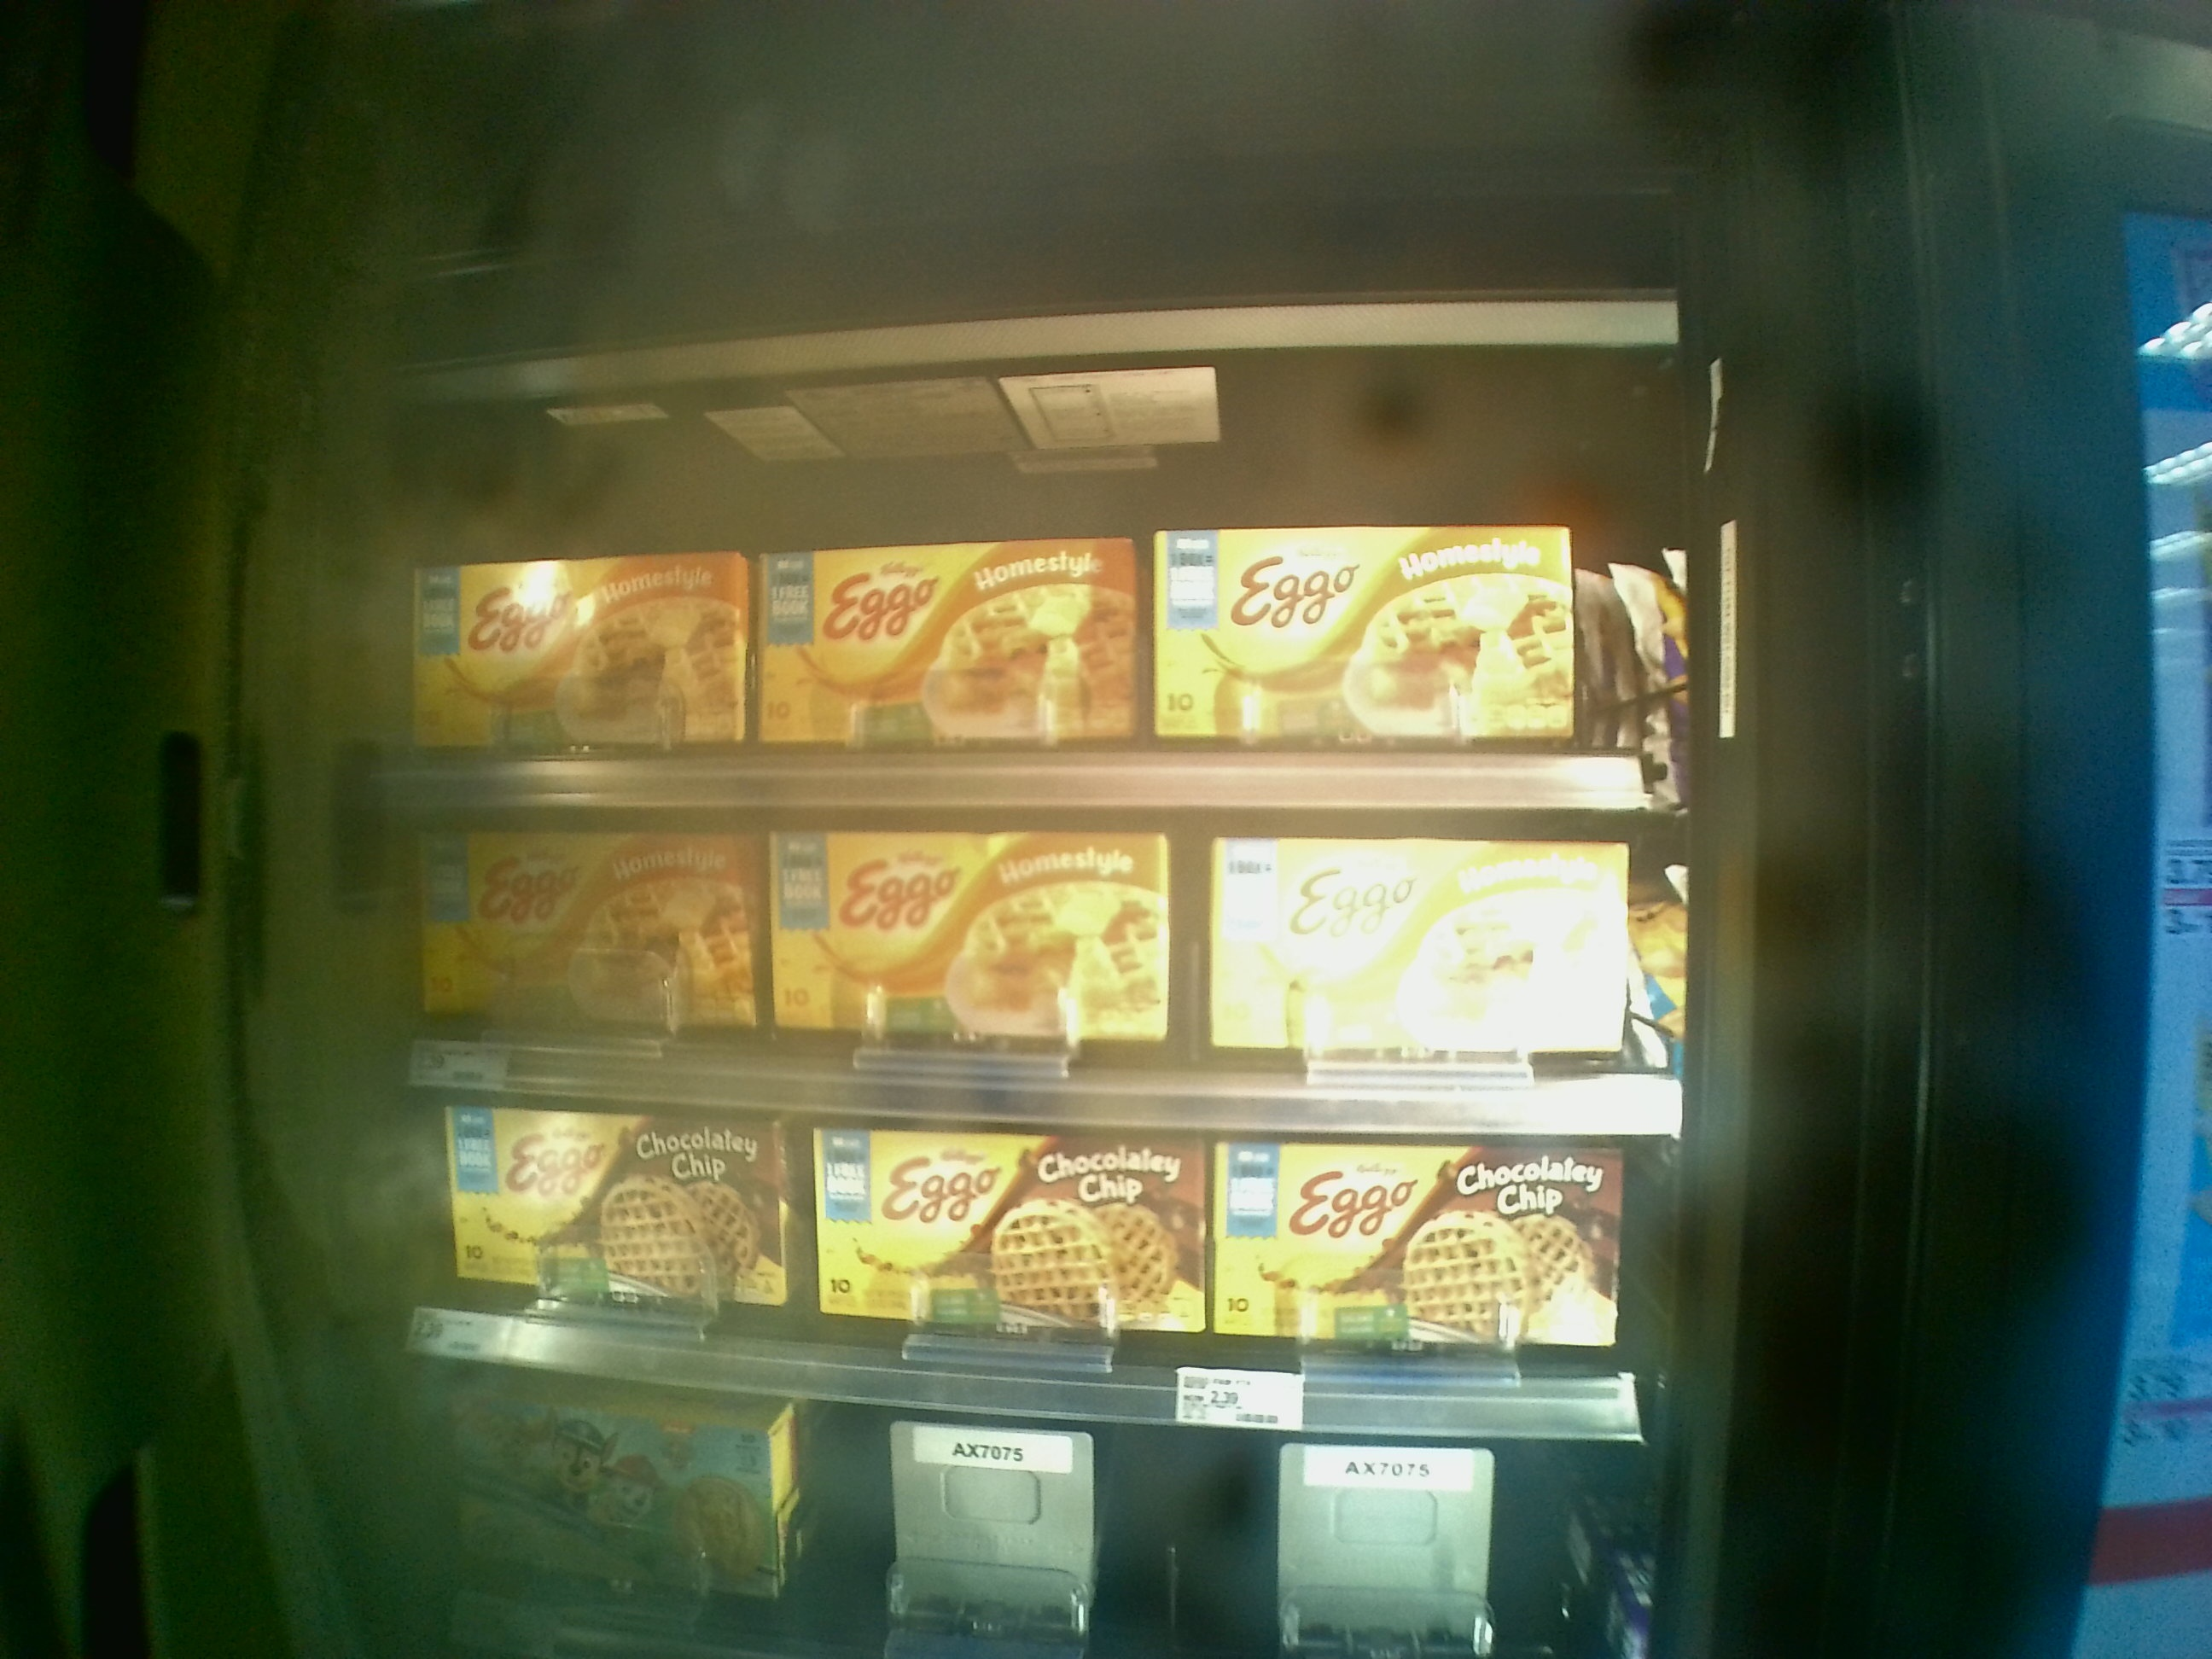frozen-food-shelf: (399, 796, 1684, 1133)
